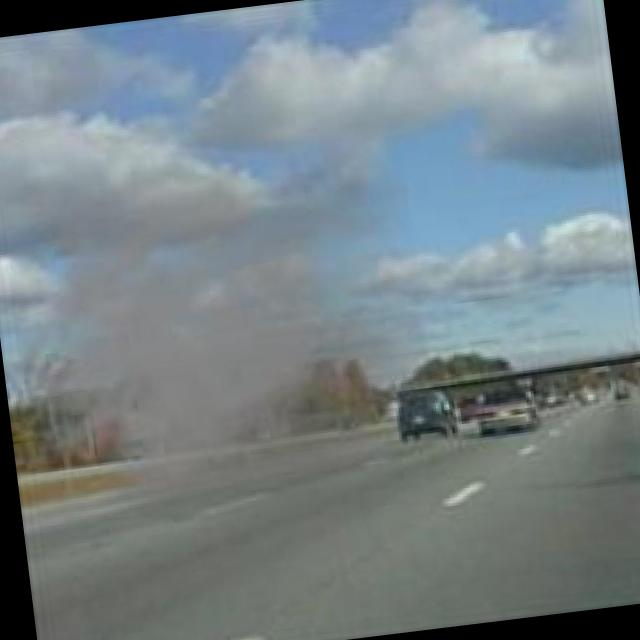Smoke: (0, 134, 447, 564)
